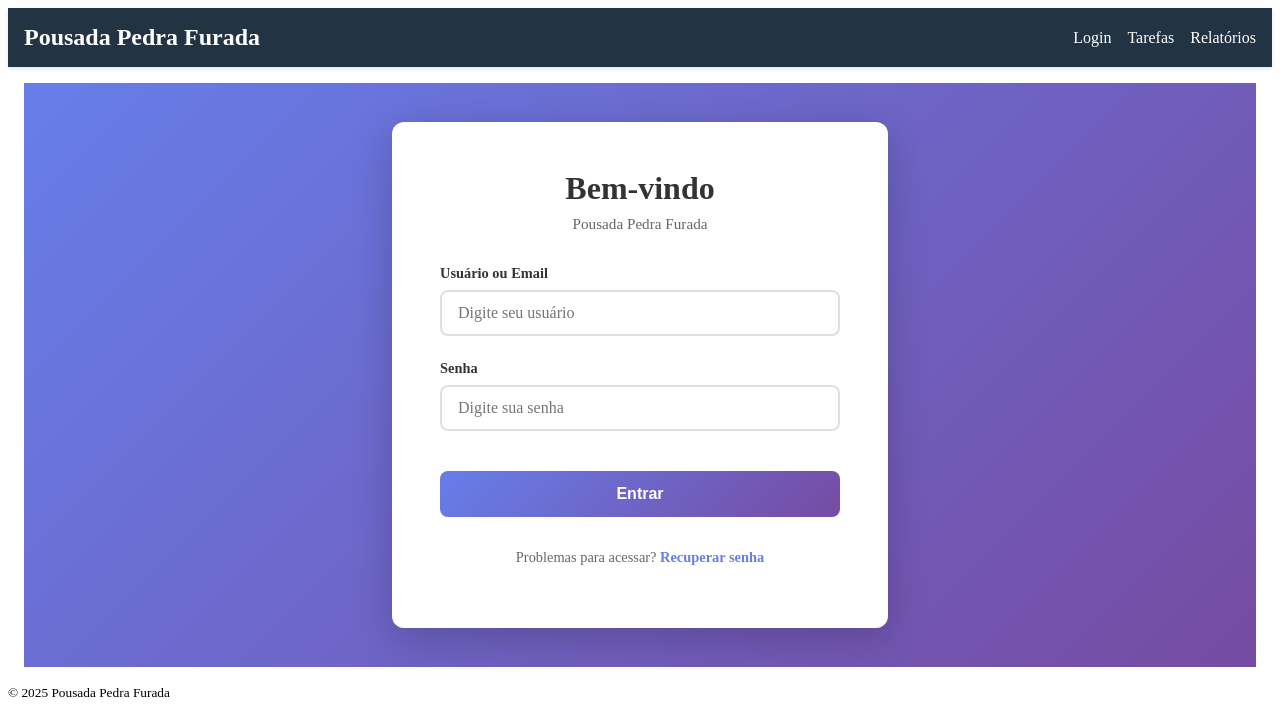
Test case: LoginPage.jsx — Autenticação de usuário › deve exibir erro se senha for menor que 3 caracteres
The width and height of the screenshot is (1280, 720).
Type "usuario" into the field with placeholder "Digite seu usuário" at {"x": 640, "y": 313}, box [440,290,840,336]
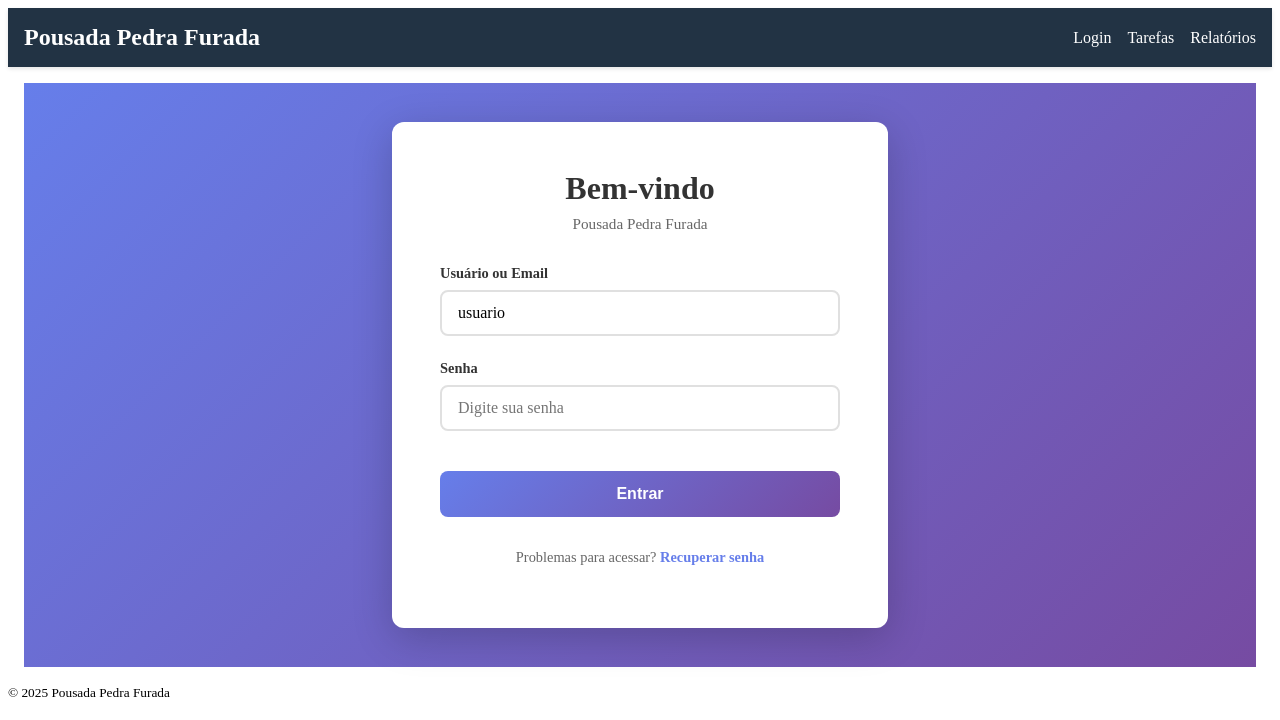
Type "ab" into the password field with placeholder "Digite sua senha" at {"x": 640, "y": 408}, box [440,385,840,431]
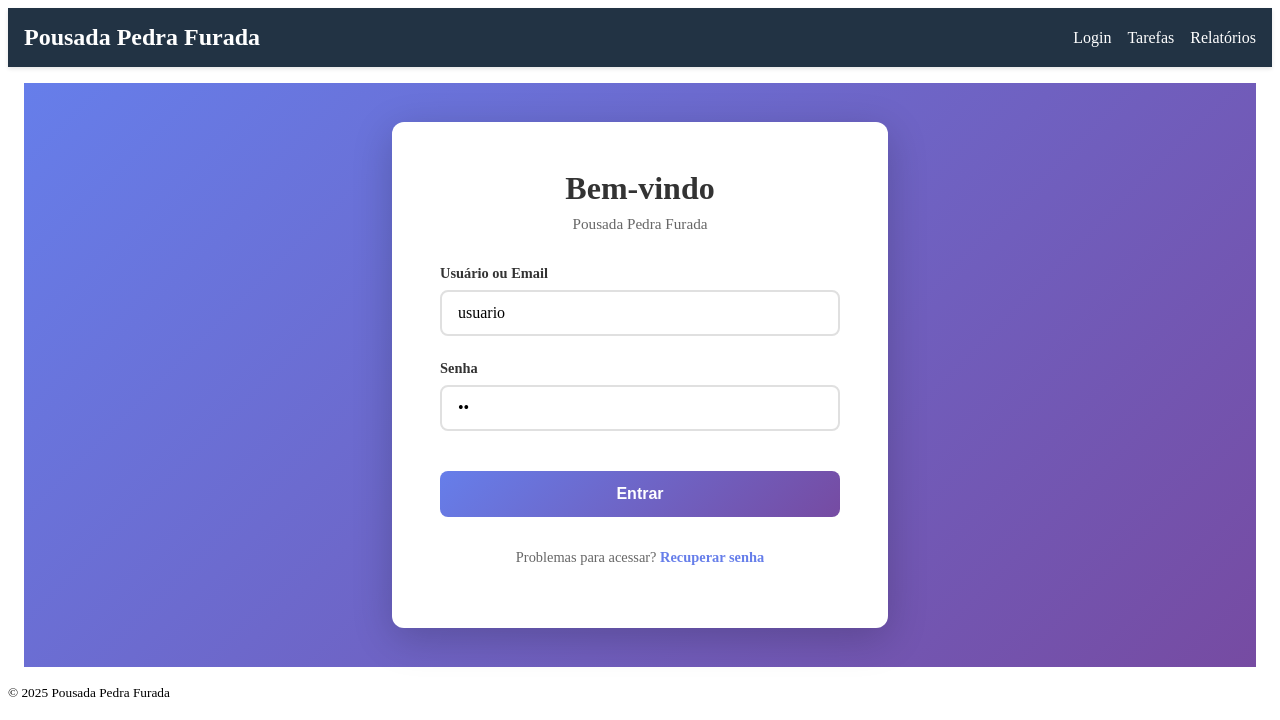
Click the button "Entrar" at {"x": 640, "y": 494}, box [440,471,840,517]
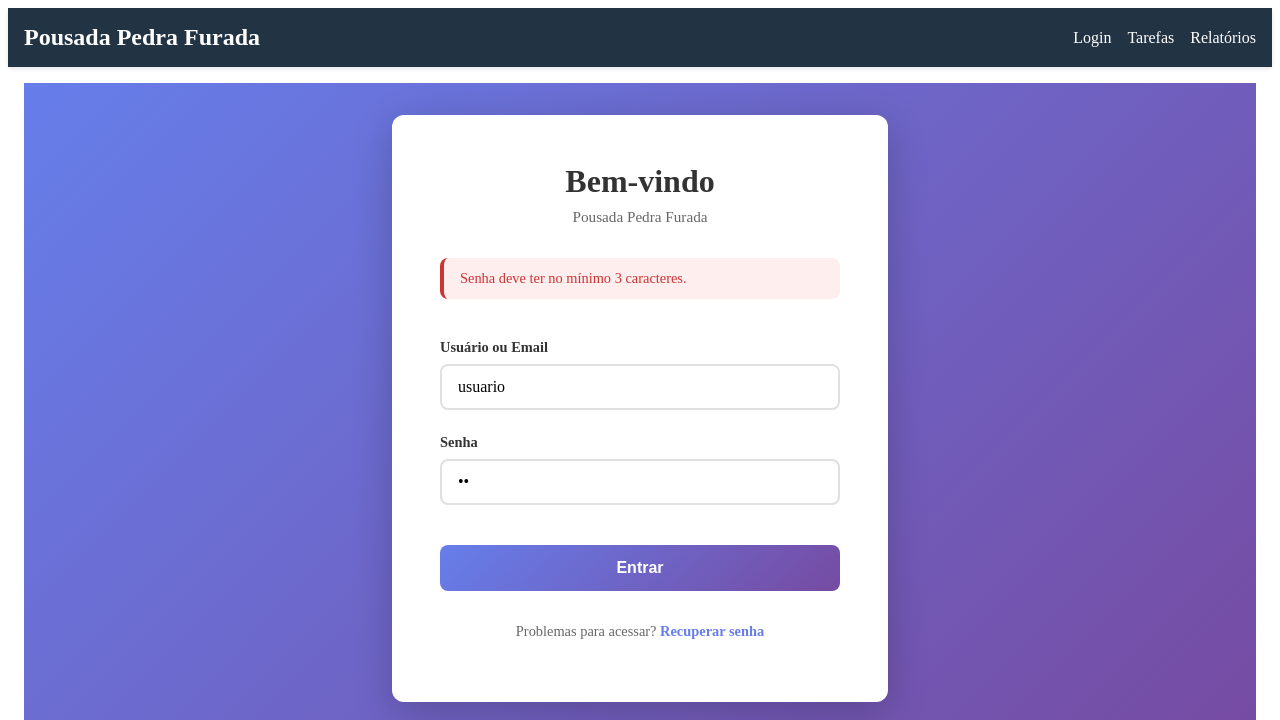
Check: the text "Senha deve ter no mínimo 3 caracteres." is shown, box [440,258,840,299]
